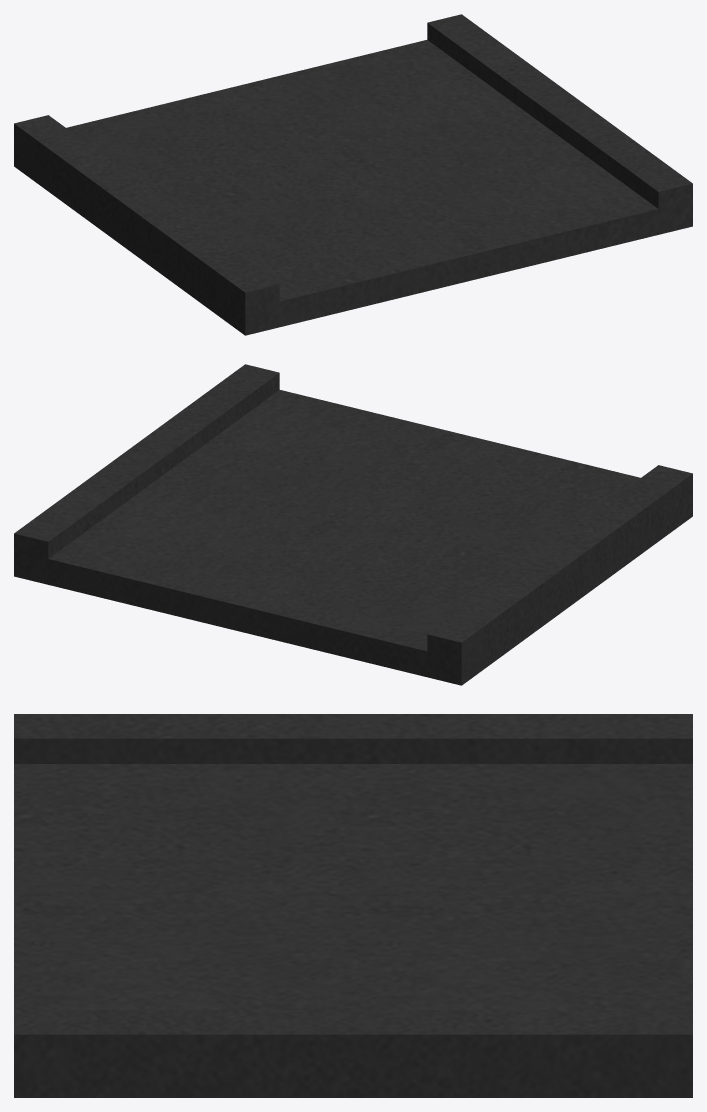
File: Map_Access_Ramp_Horizontal_Left.fbx
3 renders of one model, top to bottom at view 1: azimuth 30°, elevation 25°; view 2: azimuth 150°, elevation 25°; view 3: azimuth 270°, elevation 25°, orthographic. The views are drawn at different scales.
Parts seen in each view (by area): view 1: Map_Access_Ramp_Horizontal_Left; view 2: Map_Access_Ramp_Horizontal_Left; view 3: Map_Access_Ramp_Horizontal_Left.
Part boxes in pixels (box(x1,y1,x2,y2)): Map_Access_Ramp_Horizontal_Left: box(14, 14, 692, 335); Map_Access_Ramp_Horizontal_Left: box(14, 364, 692, 685); Map_Access_Ramp_Horizontal_Left: box(14, 714, 692, 1097).
Size of the model in its own units: 241 by 22.09 by 216.
1 material, 1 textured.
